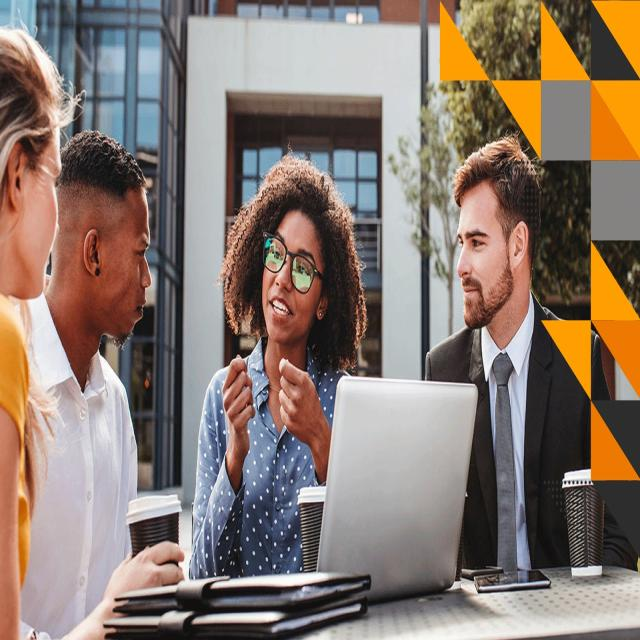adult: (0, 25, 188, 640), (424, 134, 617, 570), (188, 153, 368, 586), (4, 124, 150, 626)
